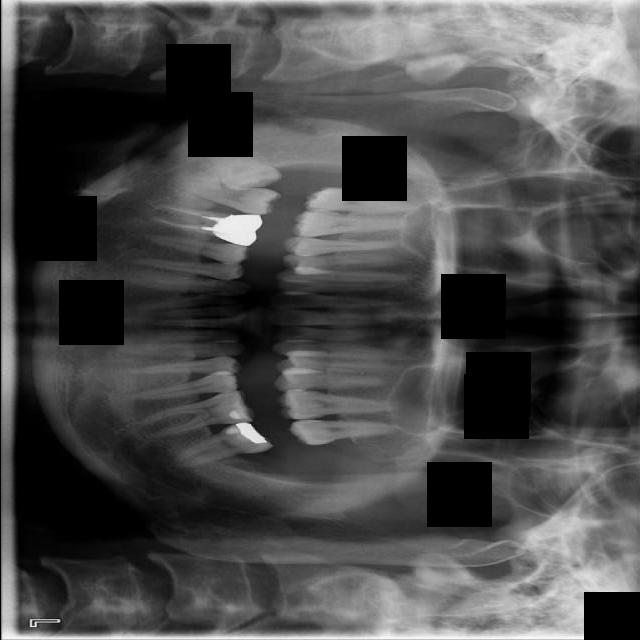52: (216, 409, 275, 468), (200, 384, 257, 437), (213, 211, 264, 248)
73: (142, 200, 234, 239)
BioHorizons Implant: (287, 419, 400, 447)
Blue Sky Bio Implant: (169, 417, 274, 471)
Caries: (300, 186, 422, 215)
Implant: (165, 177, 282, 218)
Keystone Dental Implant: (199, 144, 284, 199)
